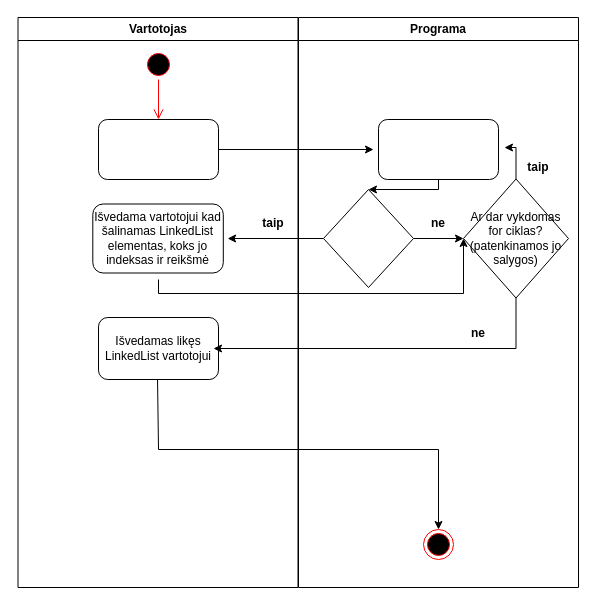
Image size: 596x605. Some labels were removed from this diagram. Here are the shapes that lost their labels. From the top down, the centre of each, then its label:
the point at 158,149: Išvedamas pradinis LinkedList vartotojui
the point at 438,149: for ciklas
the point at 368,238: Ar 1 elementas lygus 2 ir tai nėra tas pats elementas
